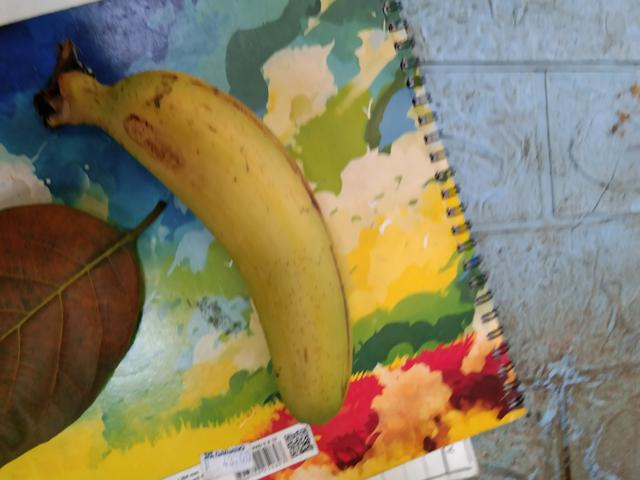ripe: (98, 64, 365, 426)
